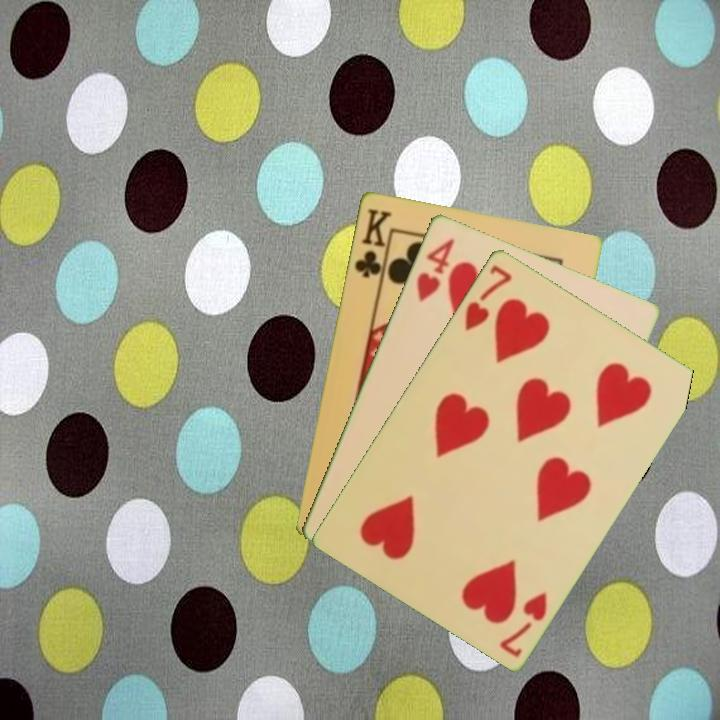4h: (412, 234, 457, 305)
7h: (460, 261, 515, 334), (495, 587, 550, 660)
Kc: (350, 204, 394, 287)
